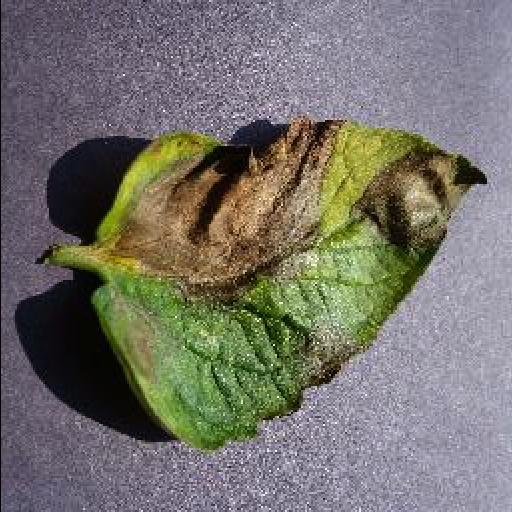disease_tomato: (90, 116, 490, 450)
